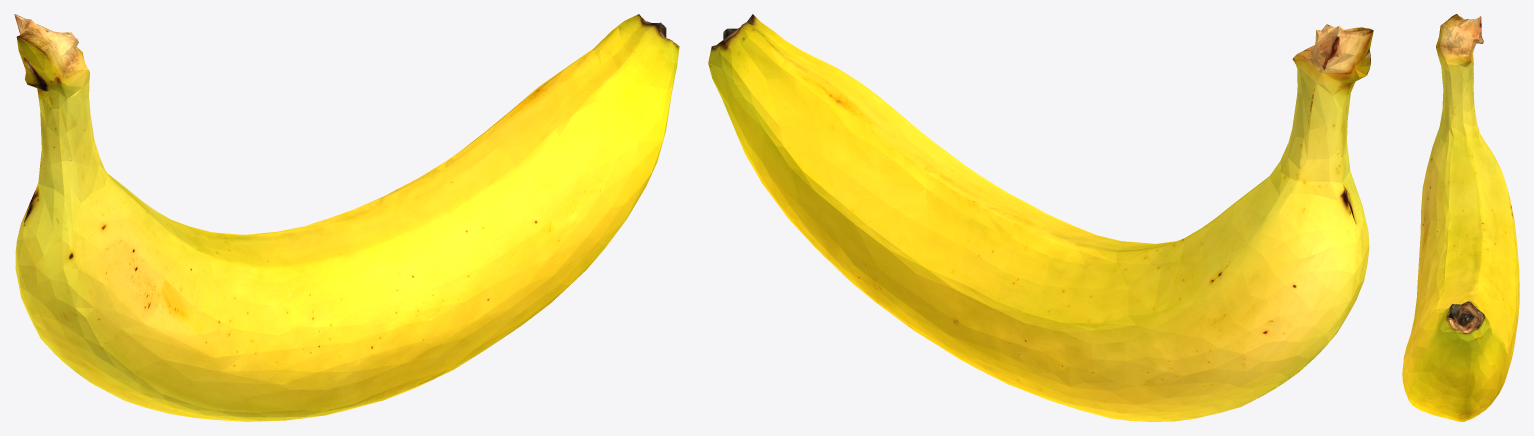
File: banana-compressed-transformed.glb
3 views of the same model, side by side, from view 1: azimuth 30°, elevation 25°; view 2: azimuth 150°, elevation 25°; view 3: azimuth 270°, elevation 25° (orthographic). The views are drawn at different scales.
Visible parts, largest first — view 1: banana; view 2: banana; view 3: banana.
Part boxes in pixels (x1,y1,x2,y2): banana: [14, 14, 679, 421]; banana: [708, 14, 1373, 421]; banana: [1402, 14, 1519, 421].
Bounding box in the file's own units: 6.79 × 4.44 × 1.62.
Materials: 1 (1 with a texture image).
